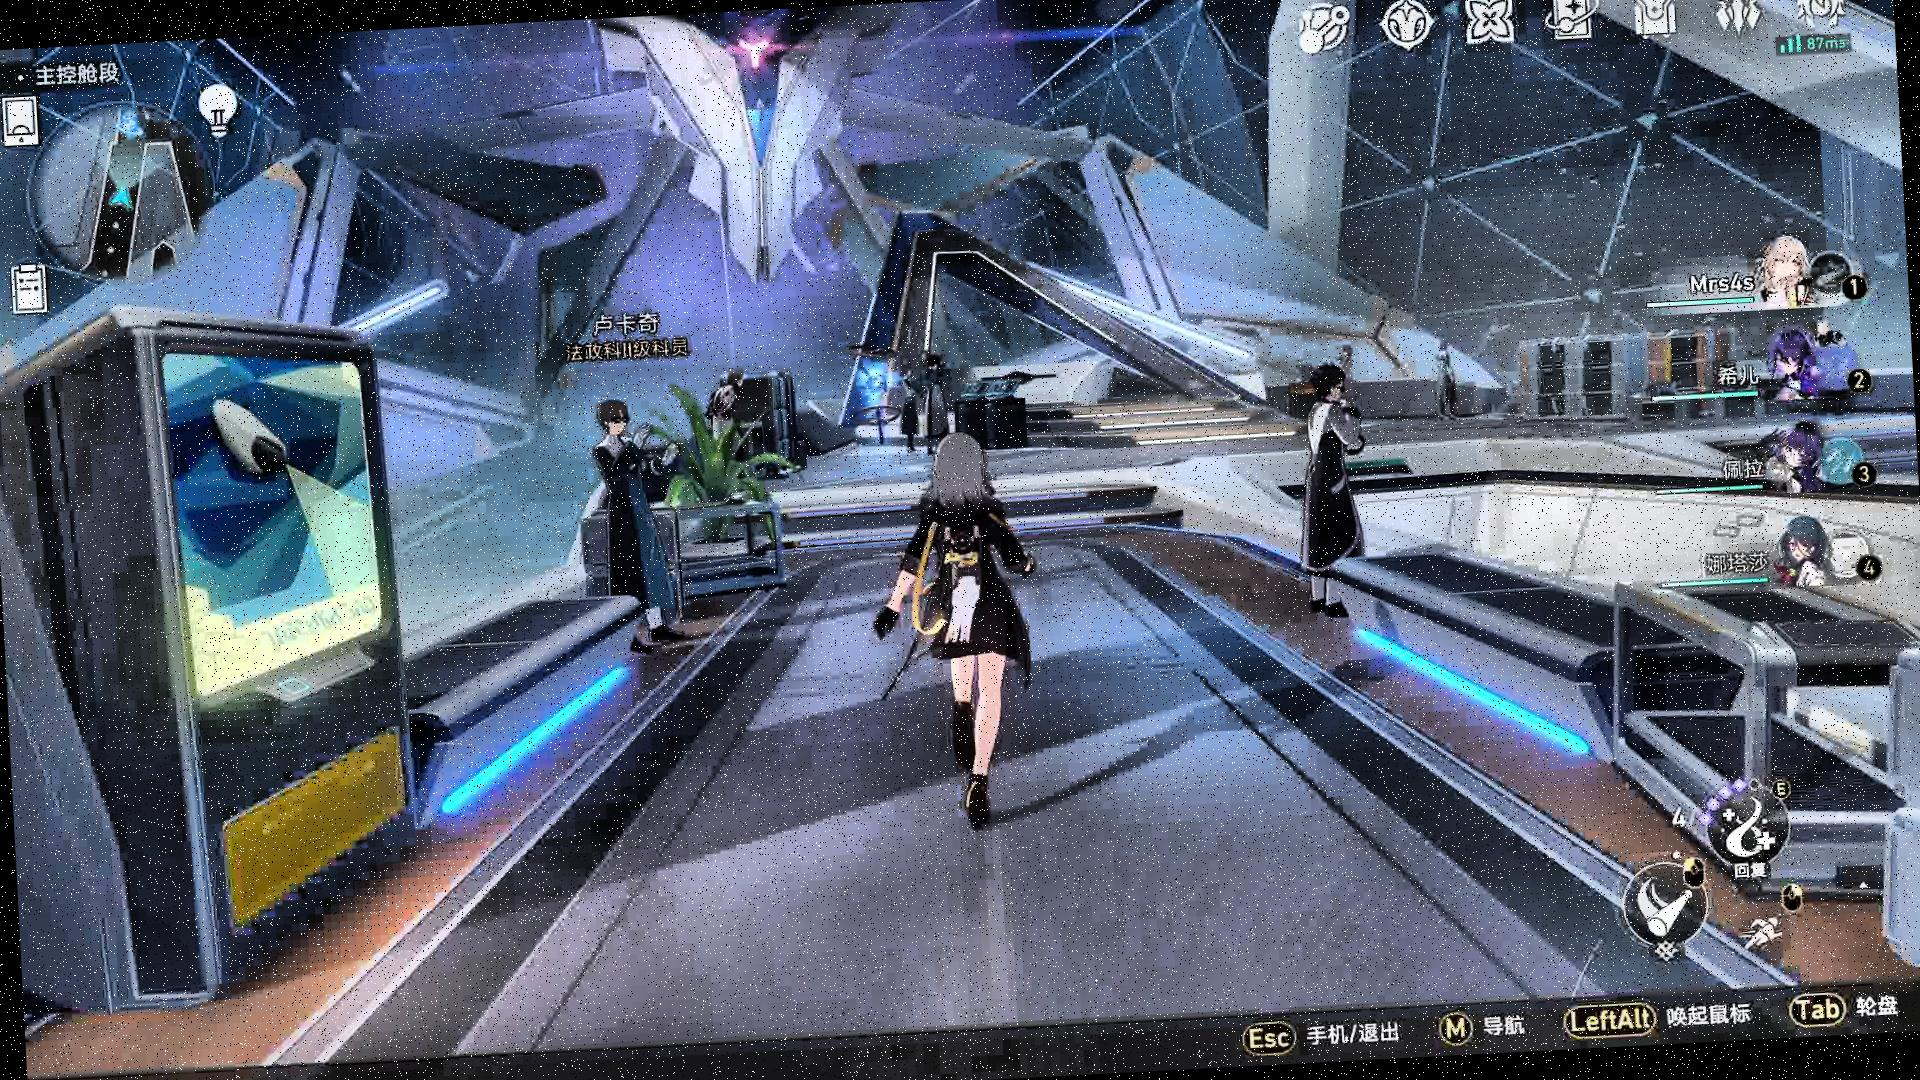Self: (866, 422, 1052, 837)
TeamMate: (585, 392, 698, 678), (1291, 361, 1381, 638), (915, 352, 953, 448), (1424, 327, 1461, 423), (891, 353, 920, 448)
